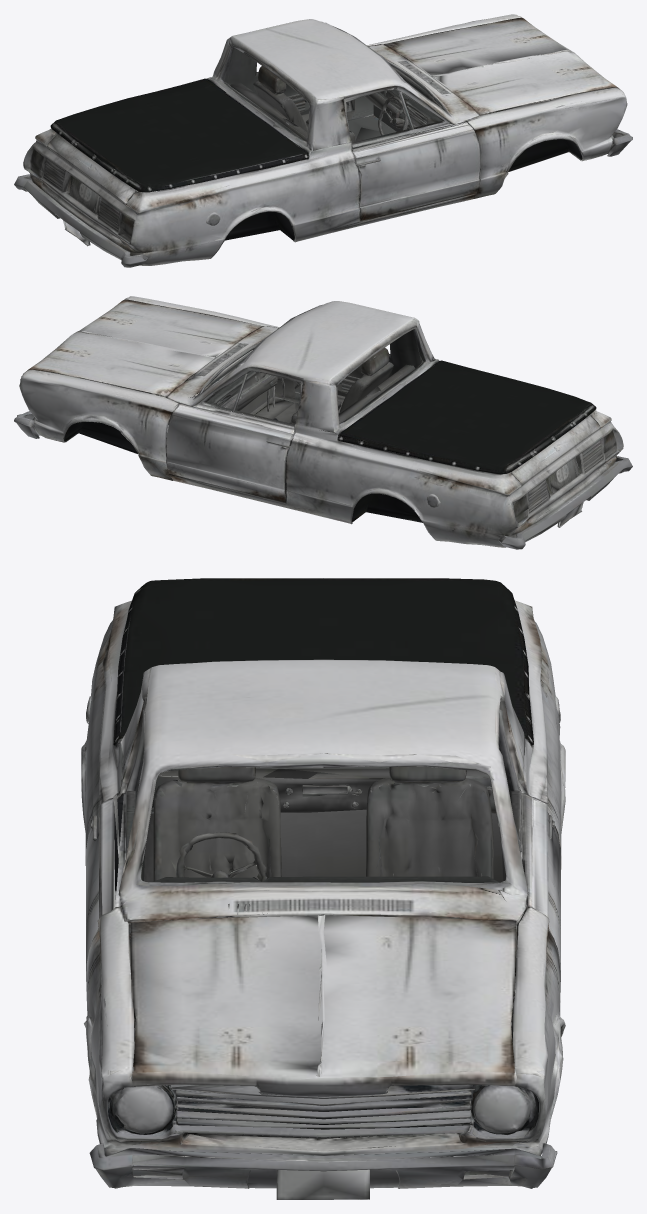
The model's file is white_pickup.glb.
3 views of the same model, one above another, from view 1: azimuth 30°, elevation 25°; view 2: azimuth 150°, elevation 25°; view 3: azimuth 270°, elevation 25° (orthographic). The views are drawn at different scales.
Parts seen in each view (by area): view 1: white_pickup; view 2: white_pickup; view 3: white_pickup.
Part boxes in pixels (x1,y1,x2,y2): white_pickup: [14, 14, 632, 267]; white_pickup: [14, 296, 632, 549]; white_pickup: [81, 578, 565, 1199].
Bounding box in the file's own units: 5 × 1.25 × 2.06.
Materials: 1 (1 with a texture image).
